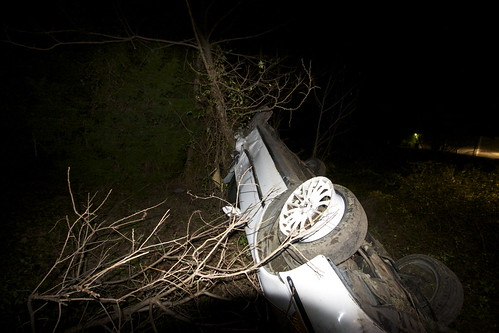car: (212, 114, 462, 333)
vegetation: (1, 22, 249, 333)
